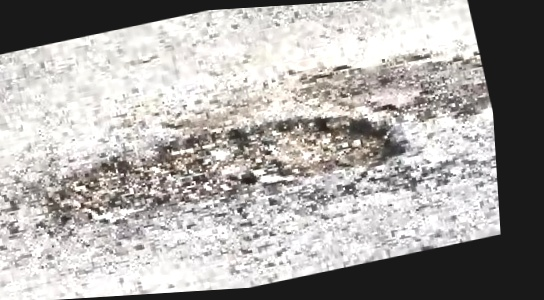pothole: (31, 86, 414, 238)
